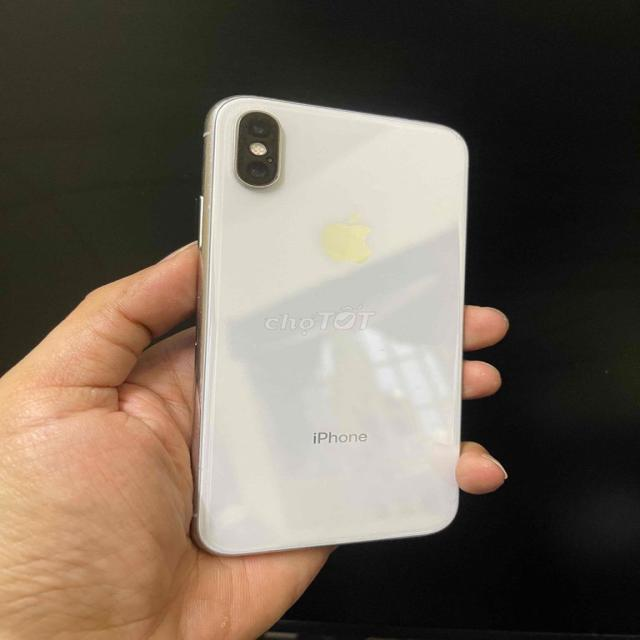scratch: (265, 169, 286, 191)
